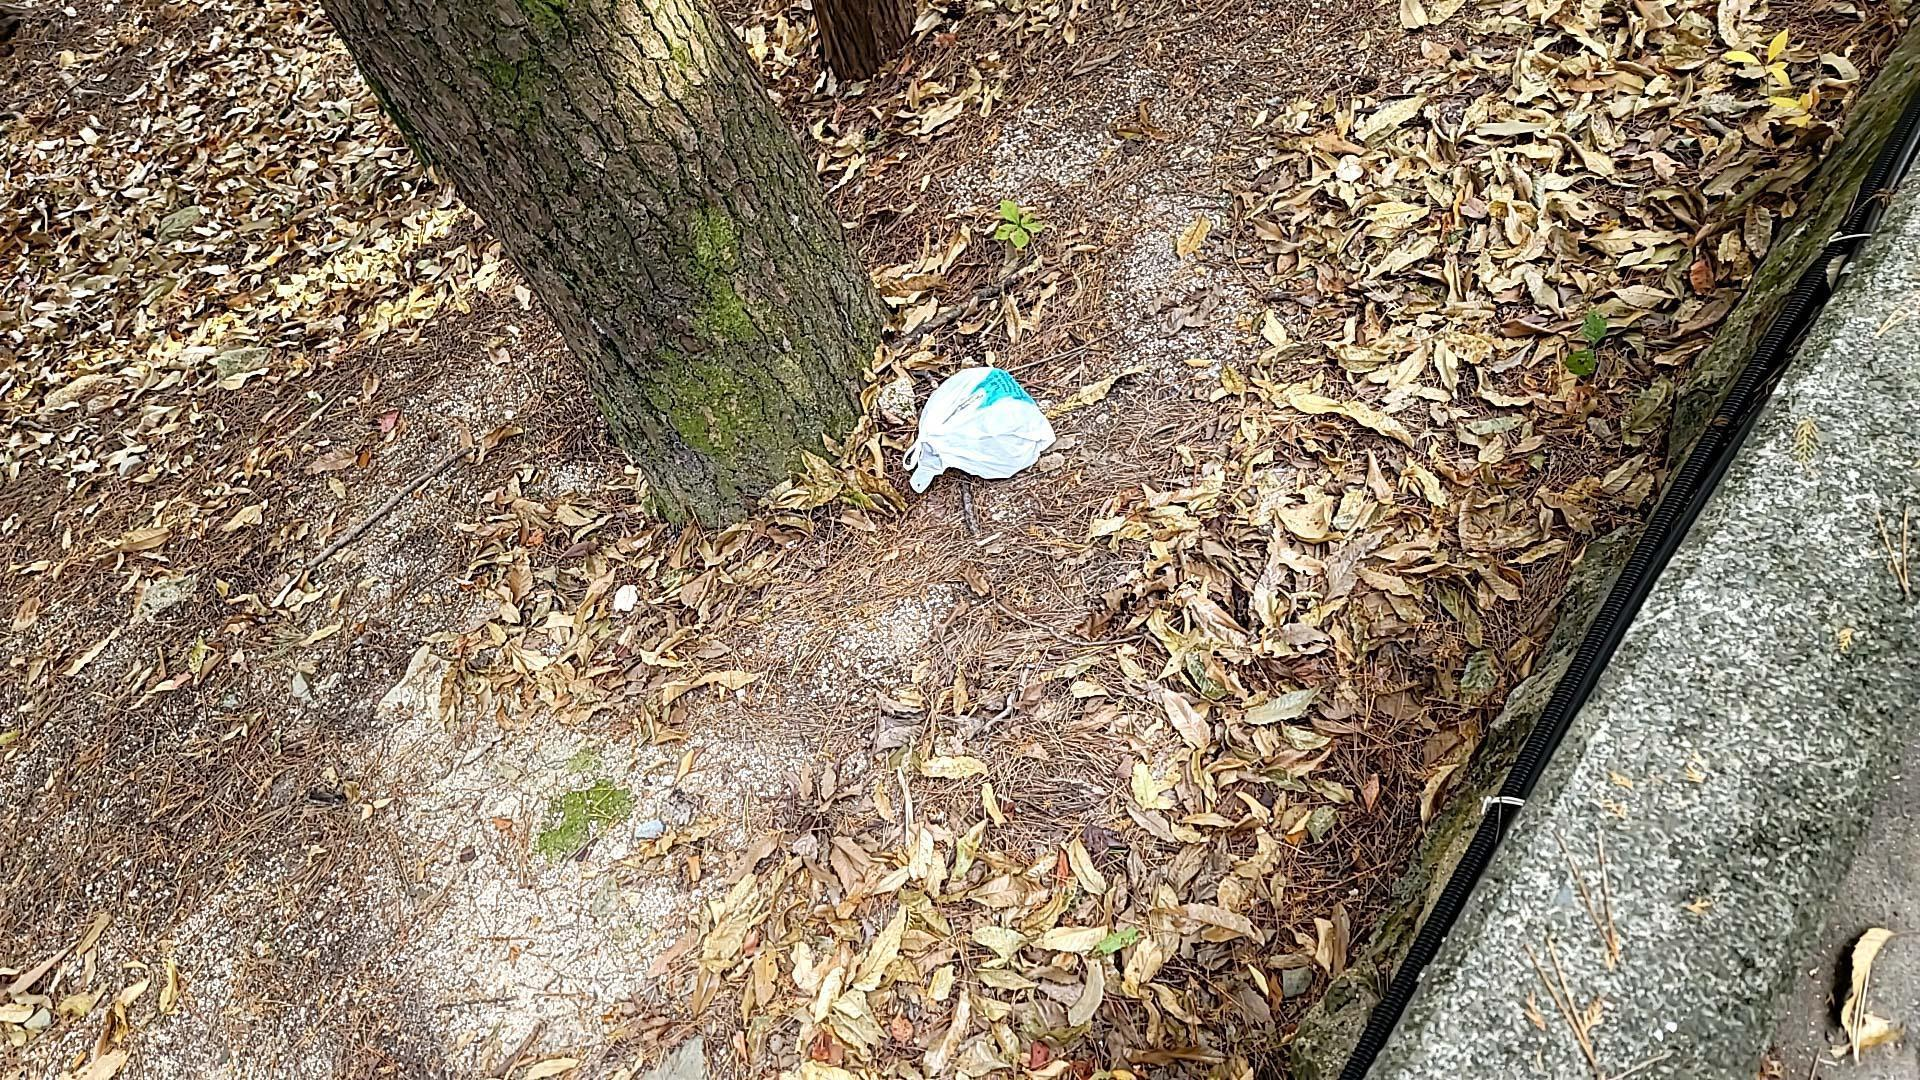white_bag: (899, 357, 1059, 502)
